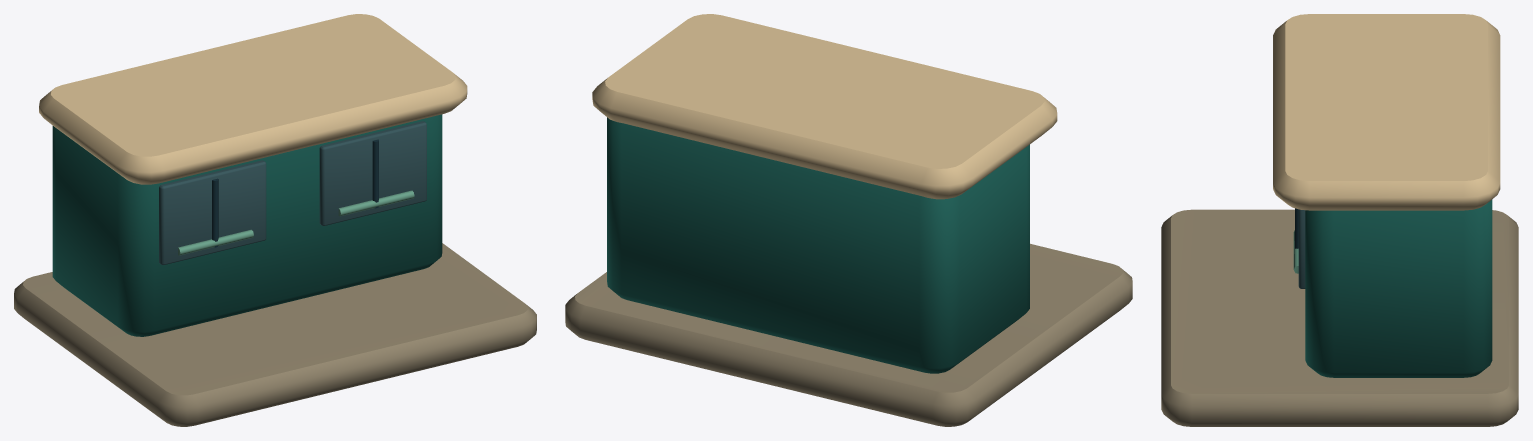
File: annex_market_3.glb
3 renders of one model, left to right at view 1: azimuth 30°, elevation 25°; view 2: azimuth 150°, elevation 25°; view 3: azimuth 270°, elevation 25°, orthographic. The views are drawn at different scales.
Parts seen in each view (by area): view 1: Annex_market_3; view 2: Annex_market_3; view 3: Annex_market_3.
Boxes of the visible parts, box(x1,y1,x2,y2) form: Annex_market_3: box(14, 14, 536, 426); Annex_market_3: box(565, 14, 1132, 426); Annex_market_3: box(1161, 14, 1518, 426).
Size of the model in its own units: 2.24 by 1.29 by 1.76.
